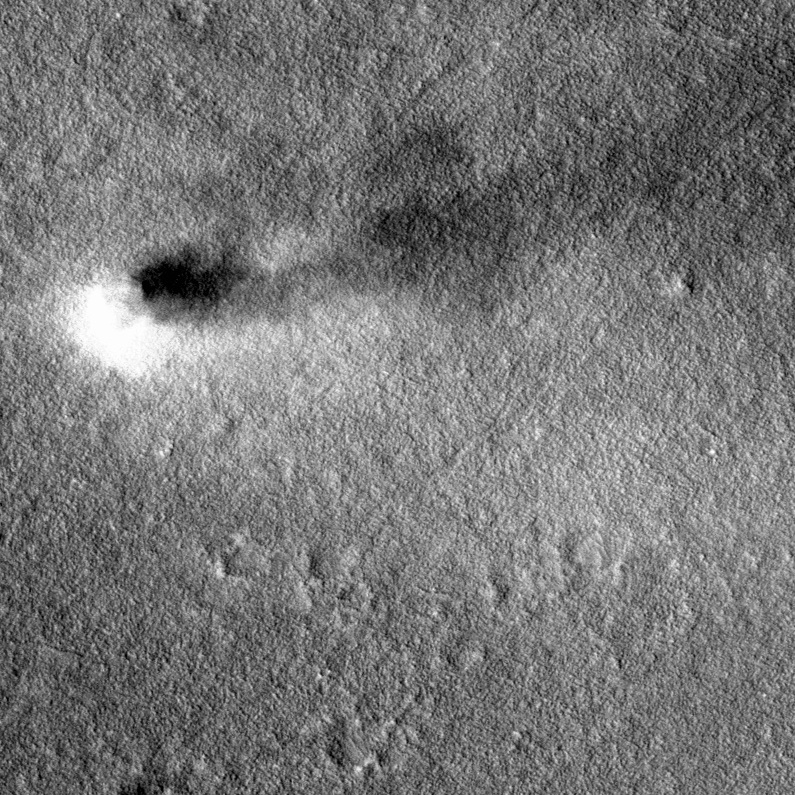dust_devil: (49, 31, 795, 389)
